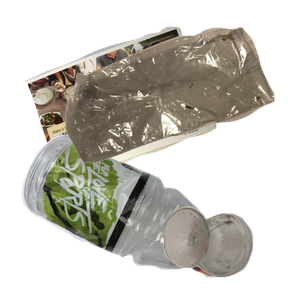glass: (161, 202, 300, 300)
paper: (23, 24, 232, 199)
plastic: (19, 132, 242, 300)
trash: (63, 24, 300, 179)
